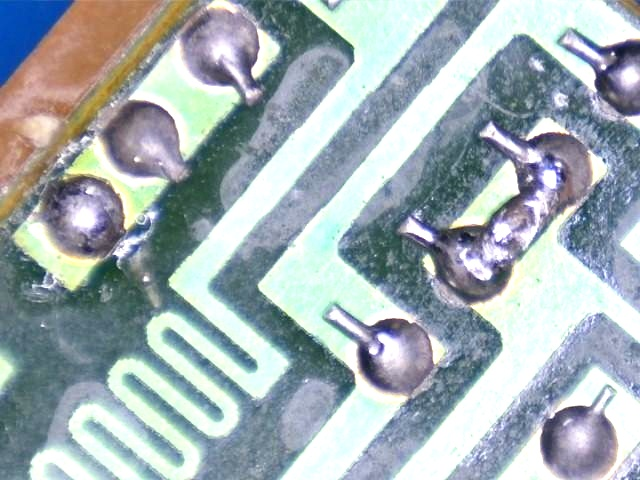pcb_defect: (454, 159, 566, 282)
